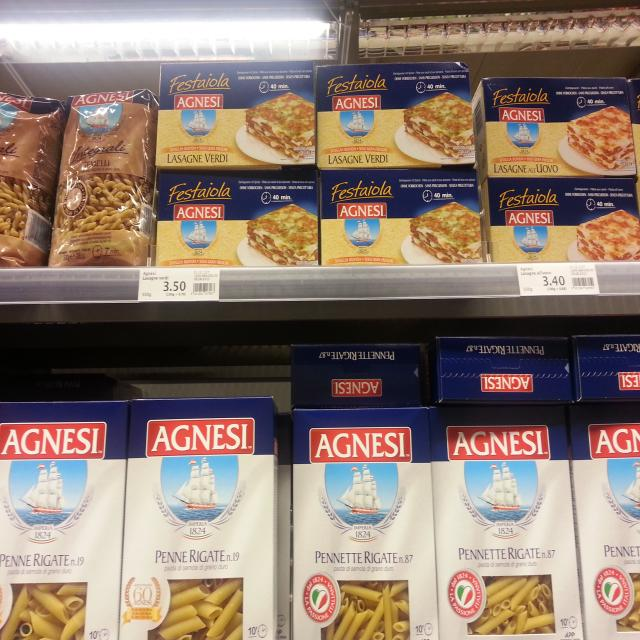Pasta: (121, 396, 281, 640), (429, 404, 579, 640), (291, 408, 440, 640), (0, 403, 130, 640), (49, 82, 158, 266), (565, 395, 640, 640), (318, 60, 479, 169), (155, 66, 322, 170), (319, 169, 483, 267), (470, 80, 635, 177), (159, 172, 317, 270), (485, 174, 640, 261), (0, 93, 63, 270)
